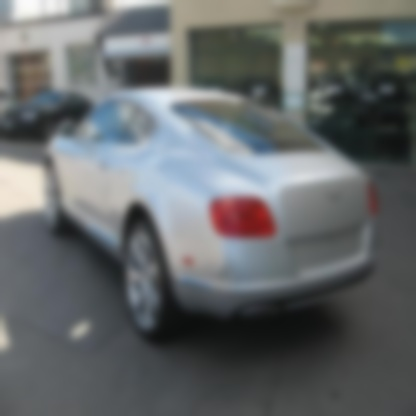Vehicle: (43, 85, 385, 340)
